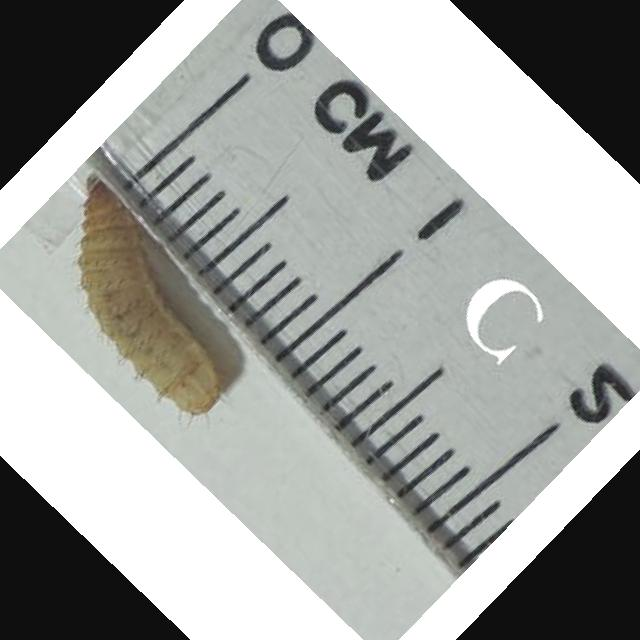Maggot: (78, 175, 220, 417)
